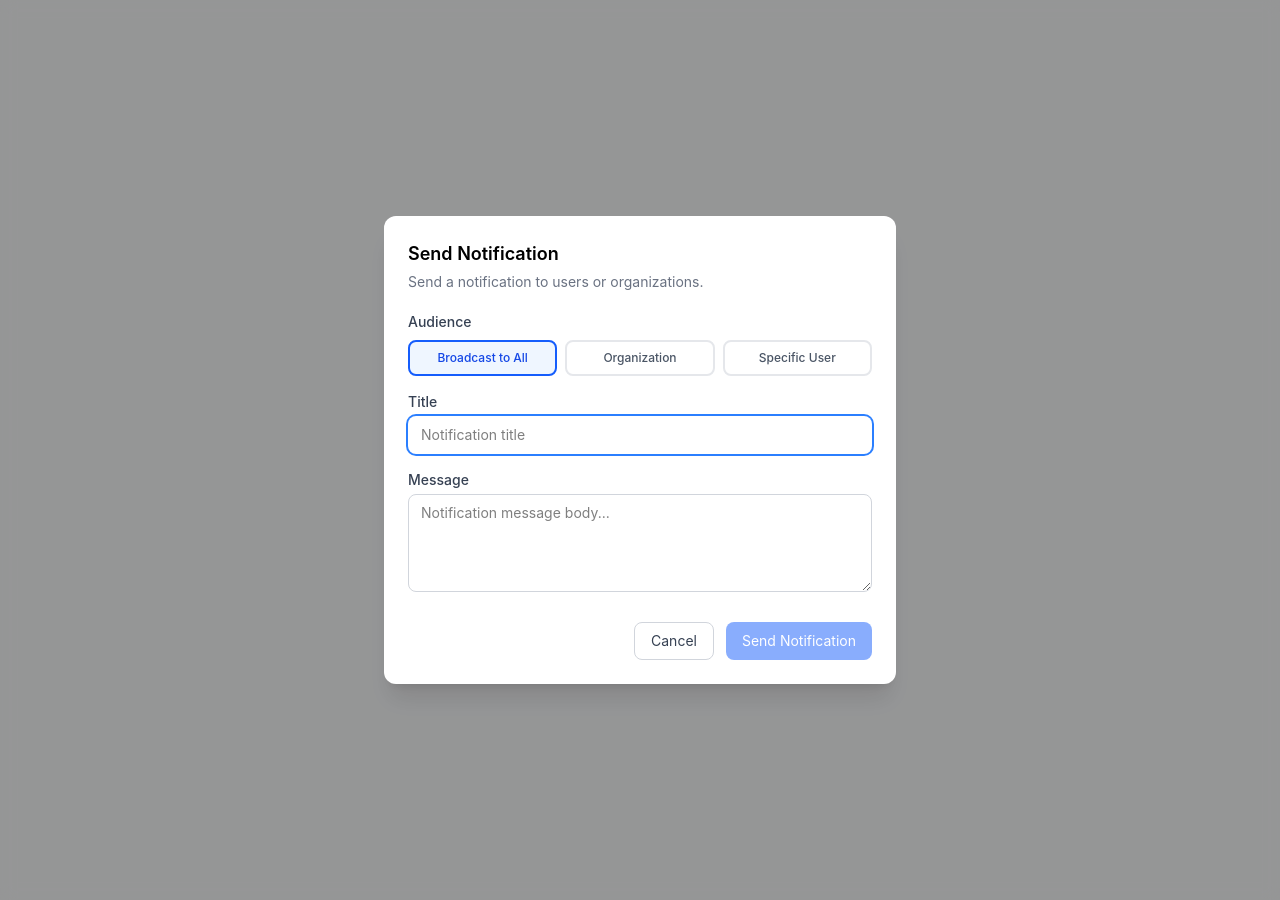
Test: SendNotificationDialog › clears selected user when X button is clicked
The width and height of the screenshot is (1280, 900).
Click the button "Specific User" at x=797, y=358, box [723,340,872,376]
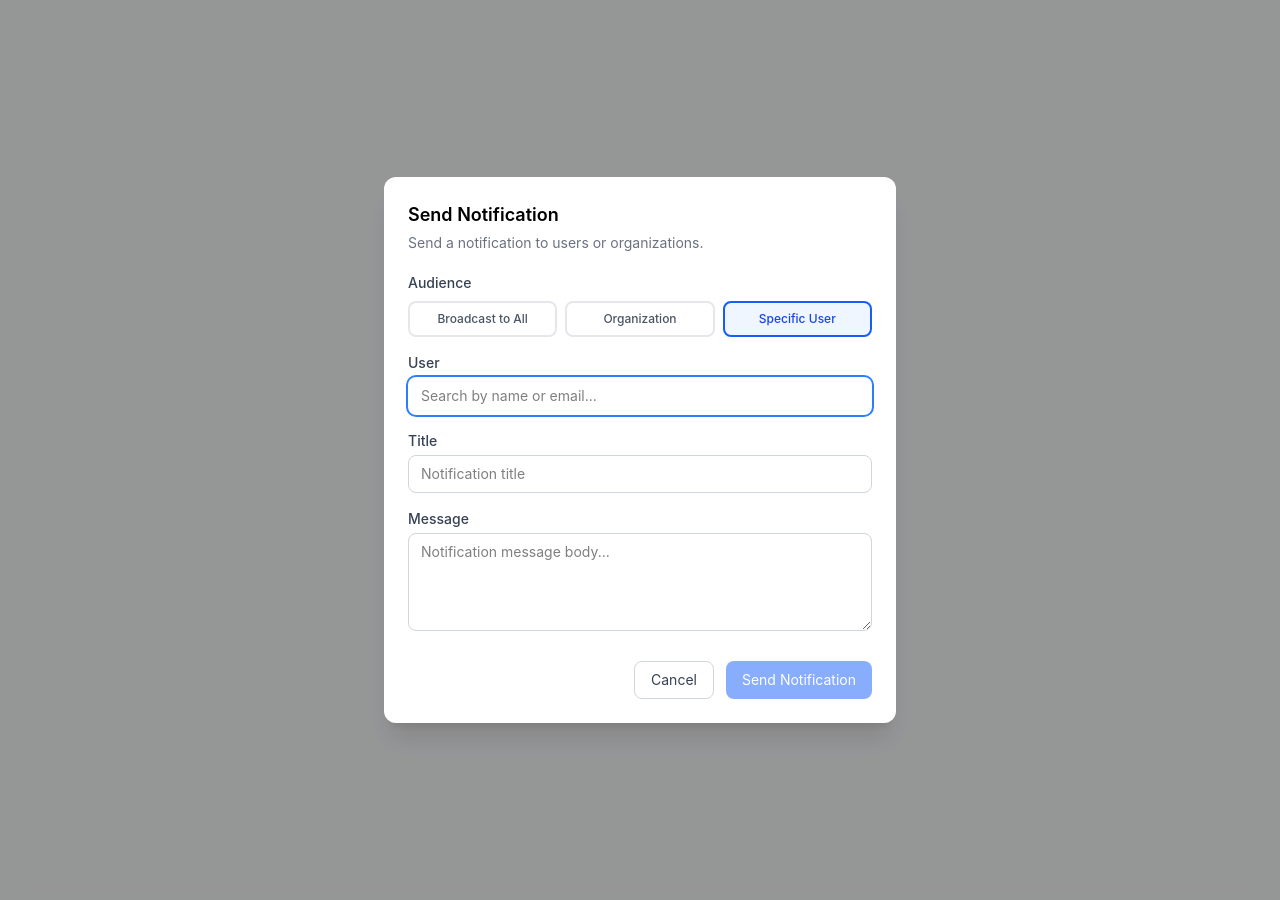
Type "al" into the field with placeholder "Search by name or email..." at x=640, y=396, box [408,377,872,415]
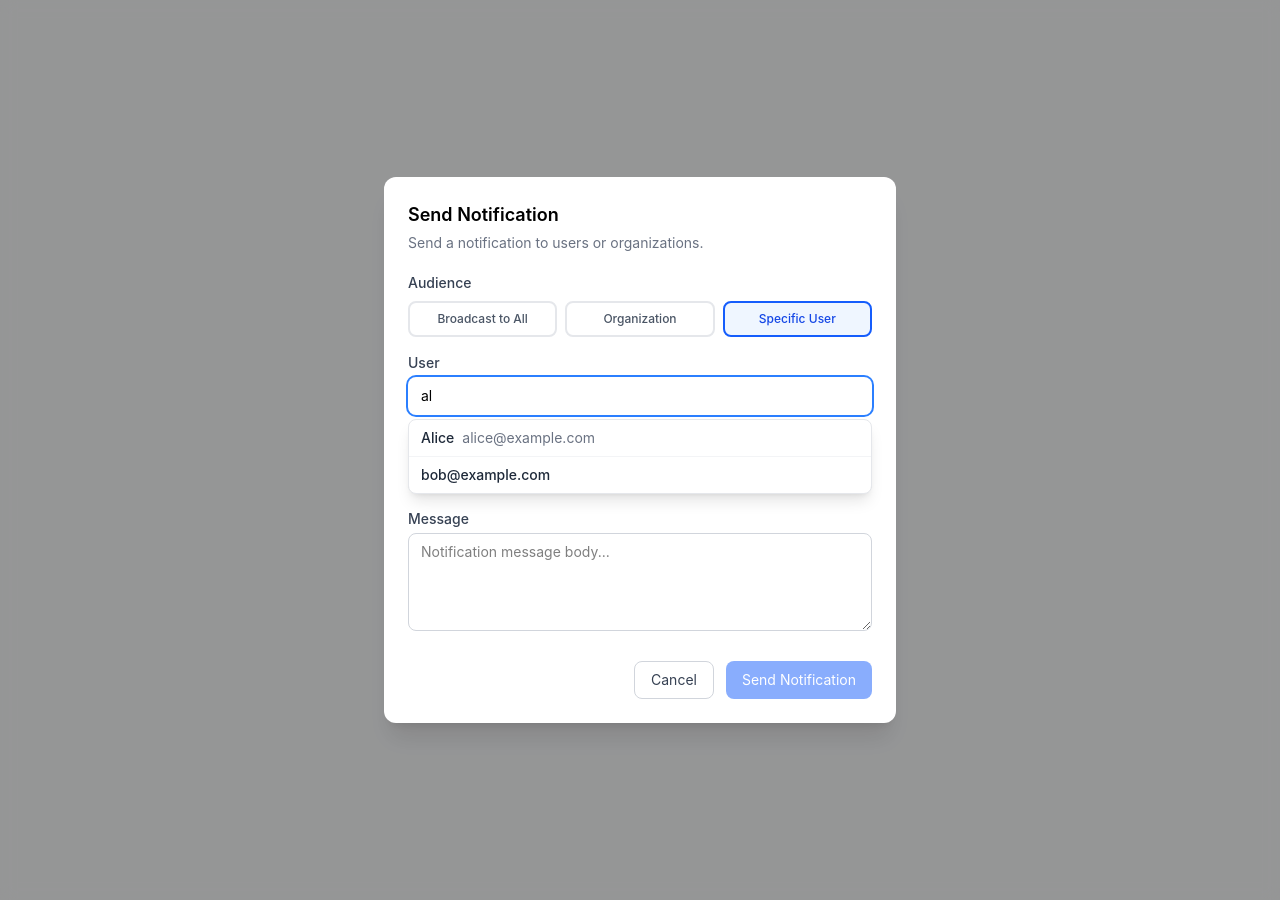
Now the text "Alice" is shown
Click the text "Alice" at x=438, y=438, box [421,429,454,446]
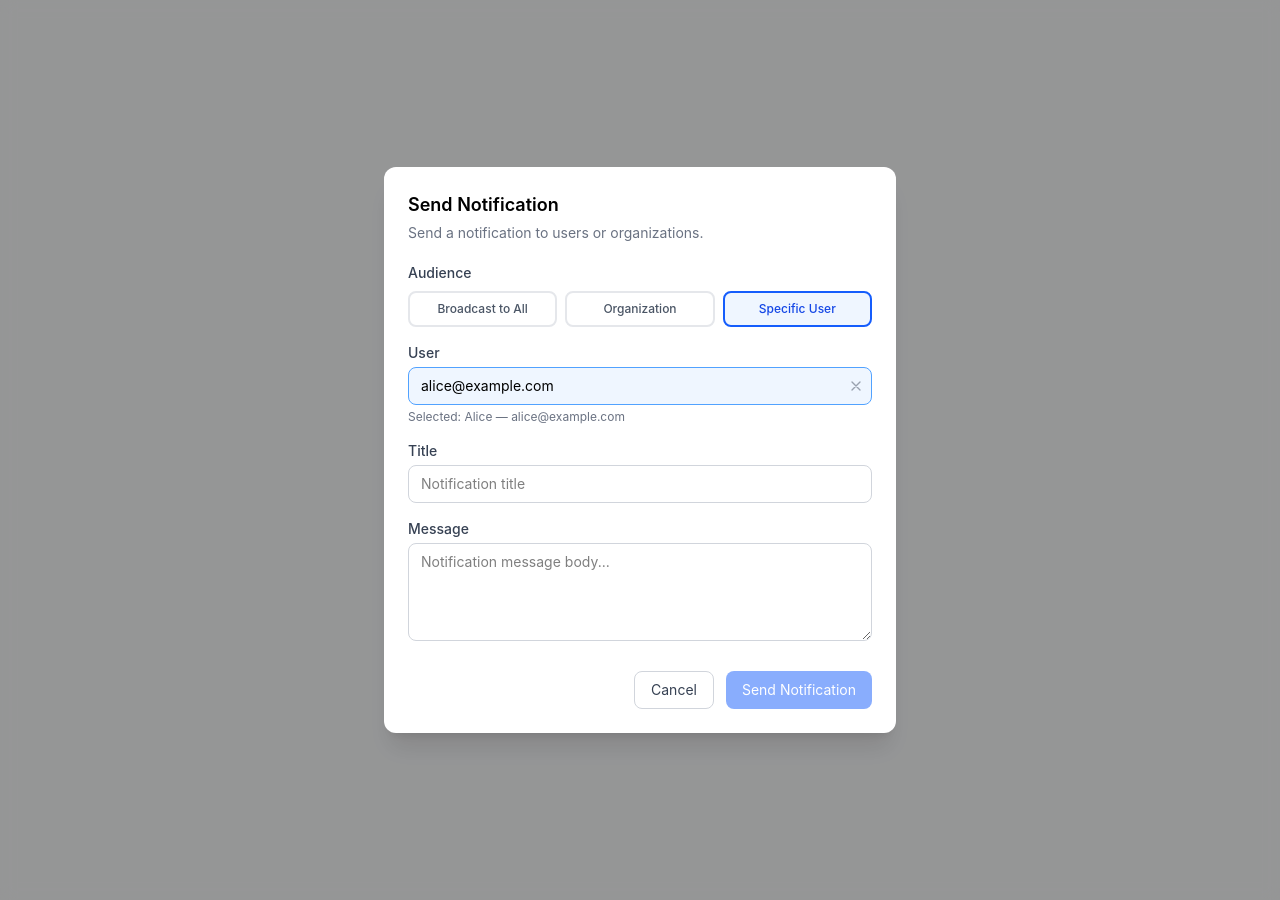
// Clear the selection
Click the button named "Clear selected user" at x=856, y=386, box [848,378,864,394]
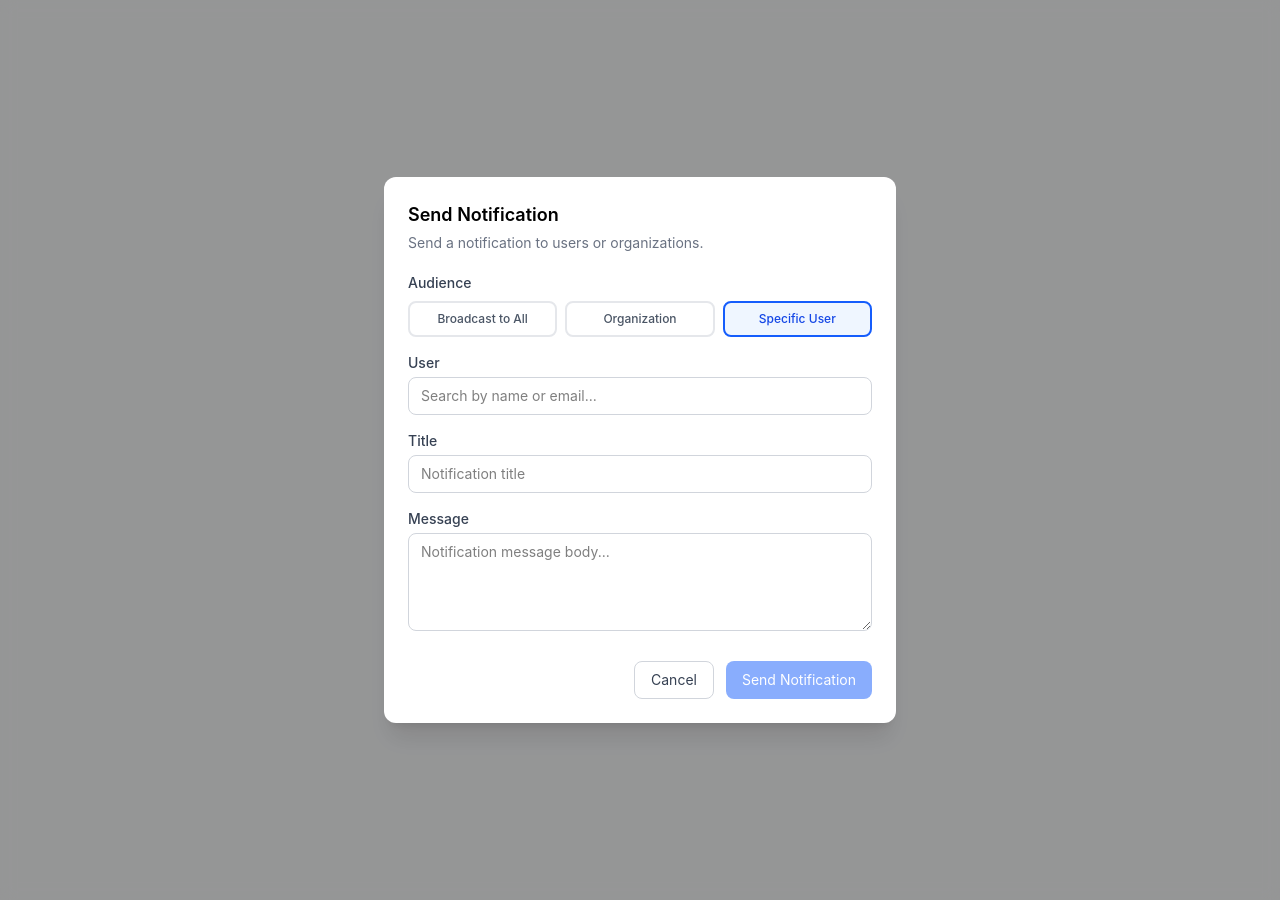
Now the text "Selected:" is gone
Now the field with placeholder "Search by name or email..." is empty, box [408,377,872,415]
